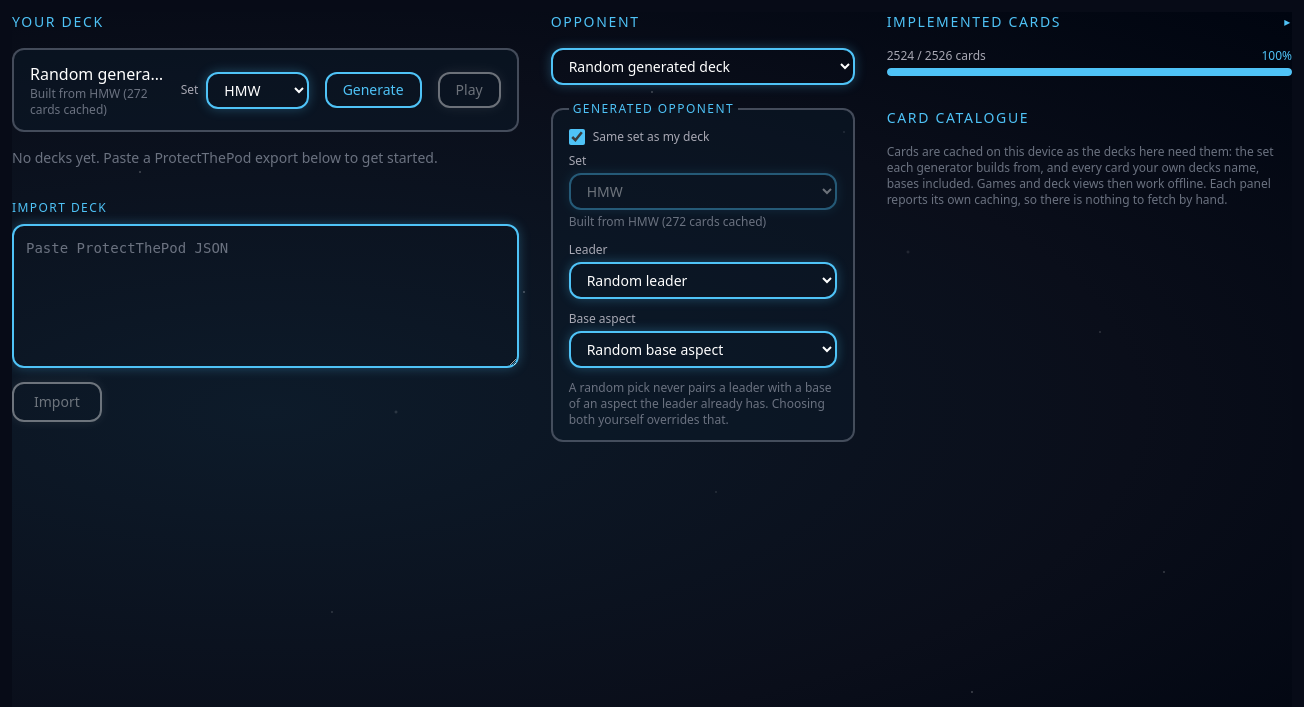
Test: DeckSelectScreen › the generated deck › groups the list by card type, units first
Click the button with test id "generate-deck-button" at (373, 90), box x1=325 y1=72 x2=422 y2=108
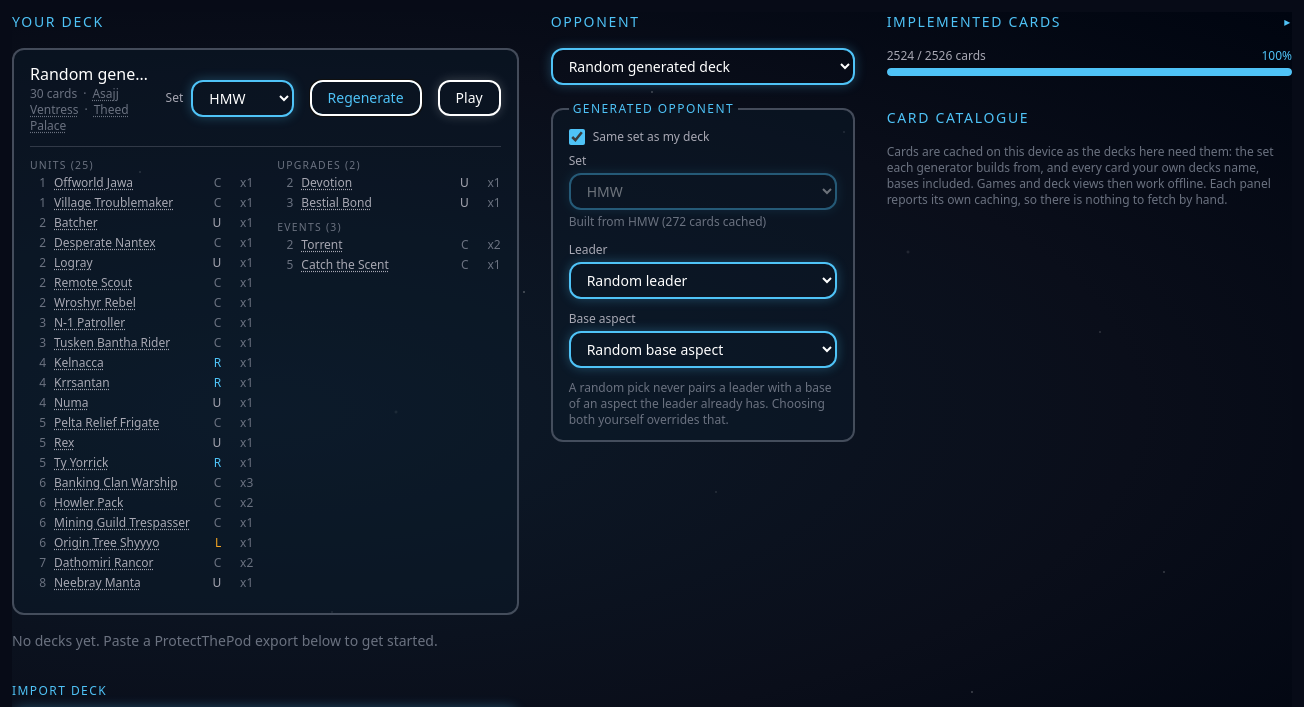
Result: the heading "Units (25)" is shown at x1=30 y1=158 x2=94 y2=172
Result: the heading "Upgrades (2)" is shown at x1=277 y1=158 x2=361 y2=172
Result: the heading "Events (3)" is shown at x1=277 y1=220 x2=342 y2=234
